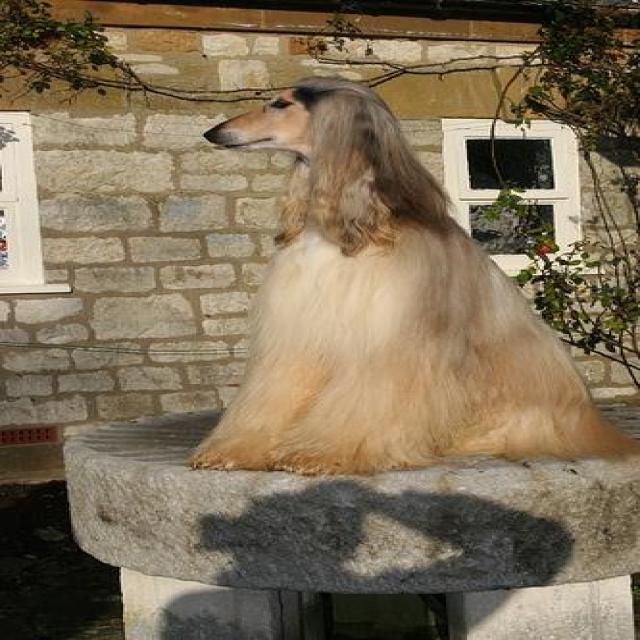afghan_hound: (185, 78, 636, 480)
